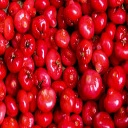apple: (31, 15, 50, 41)
